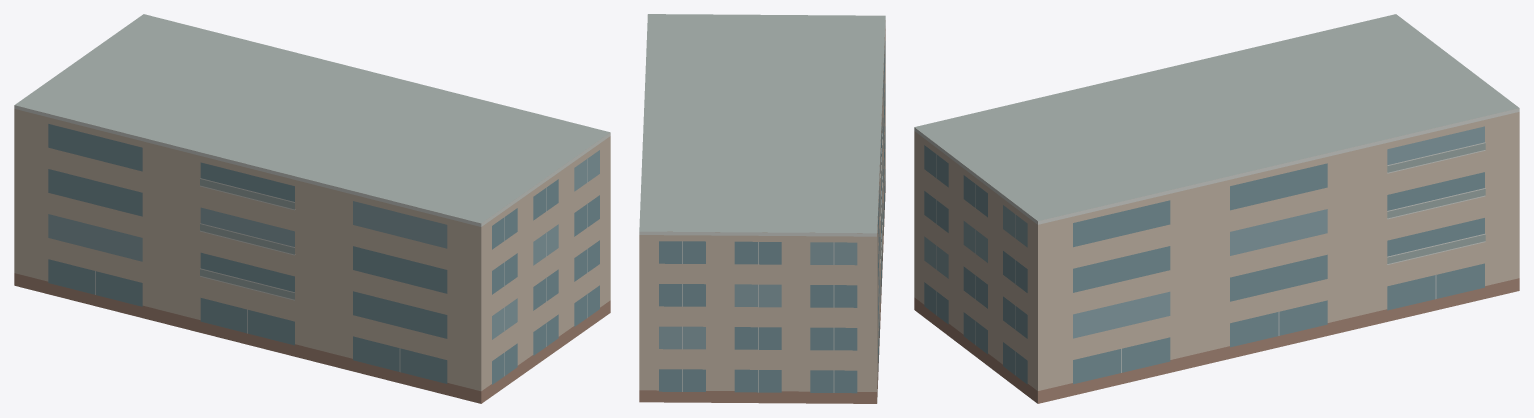
Rendered from residential-b9b892dd-680b-44ac-a88b-d47789a7703a.glb.
The picture shows the model from 3 angles, left to right: view 1: azimuth 30°, elevation 25°; view 2: azimuth 150°, elevation 25°; view 3: azimuth 270°, elevation 25°; orthographic projection. The views are drawn at different scales.
Parts seen in each view (by area): view 1: residential-b9b892dd-680b-44ac-a88b-d47789a7703a.tmp; view 2: residential-b9b892dd-680b-44ac-a88b-d47789a7703a.tmp; view 3: residential-b9b892dd-680b-44ac-a88b-d47789a7703a.tmp.
Part boxes in pixels (x1=…): residential-b9b892dd-680b-44ac-a88b-d47789a7703a.tmp: x1=14, y1=14, x2=610, y2=403; residential-b9b892dd-680b-44ac-a88b-d47789a7703a.tmp: x1=639, y1=14, x2=885, y2=403; residential-b9b892dd-680b-44ac-a88b-d47789a7703a.tmp: x1=914, y1=14, x2=1519, y2=403.
Bounding box in the file's own units: 29.68 × 12.2 × 36.65.
